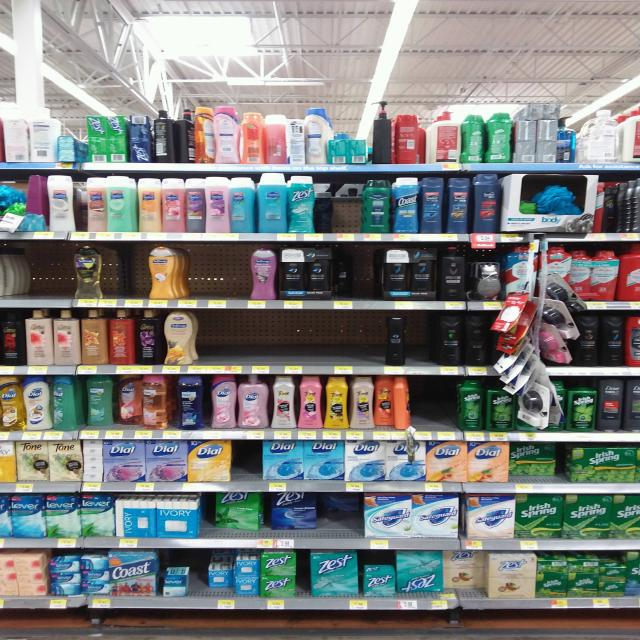void: (234, 308, 276, 376), (418, 374, 458, 441), (277, 309, 316, 375), (216, 241, 250, 309), (33, 243, 70, 304), (111, 244, 146, 308), (354, 308, 387, 374), (319, 311, 353, 375), (201, 312, 233, 377), (182, 246, 214, 310), (408, 312, 438, 376), (334, 170, 360, 242), (228, 438, 260, 492)
